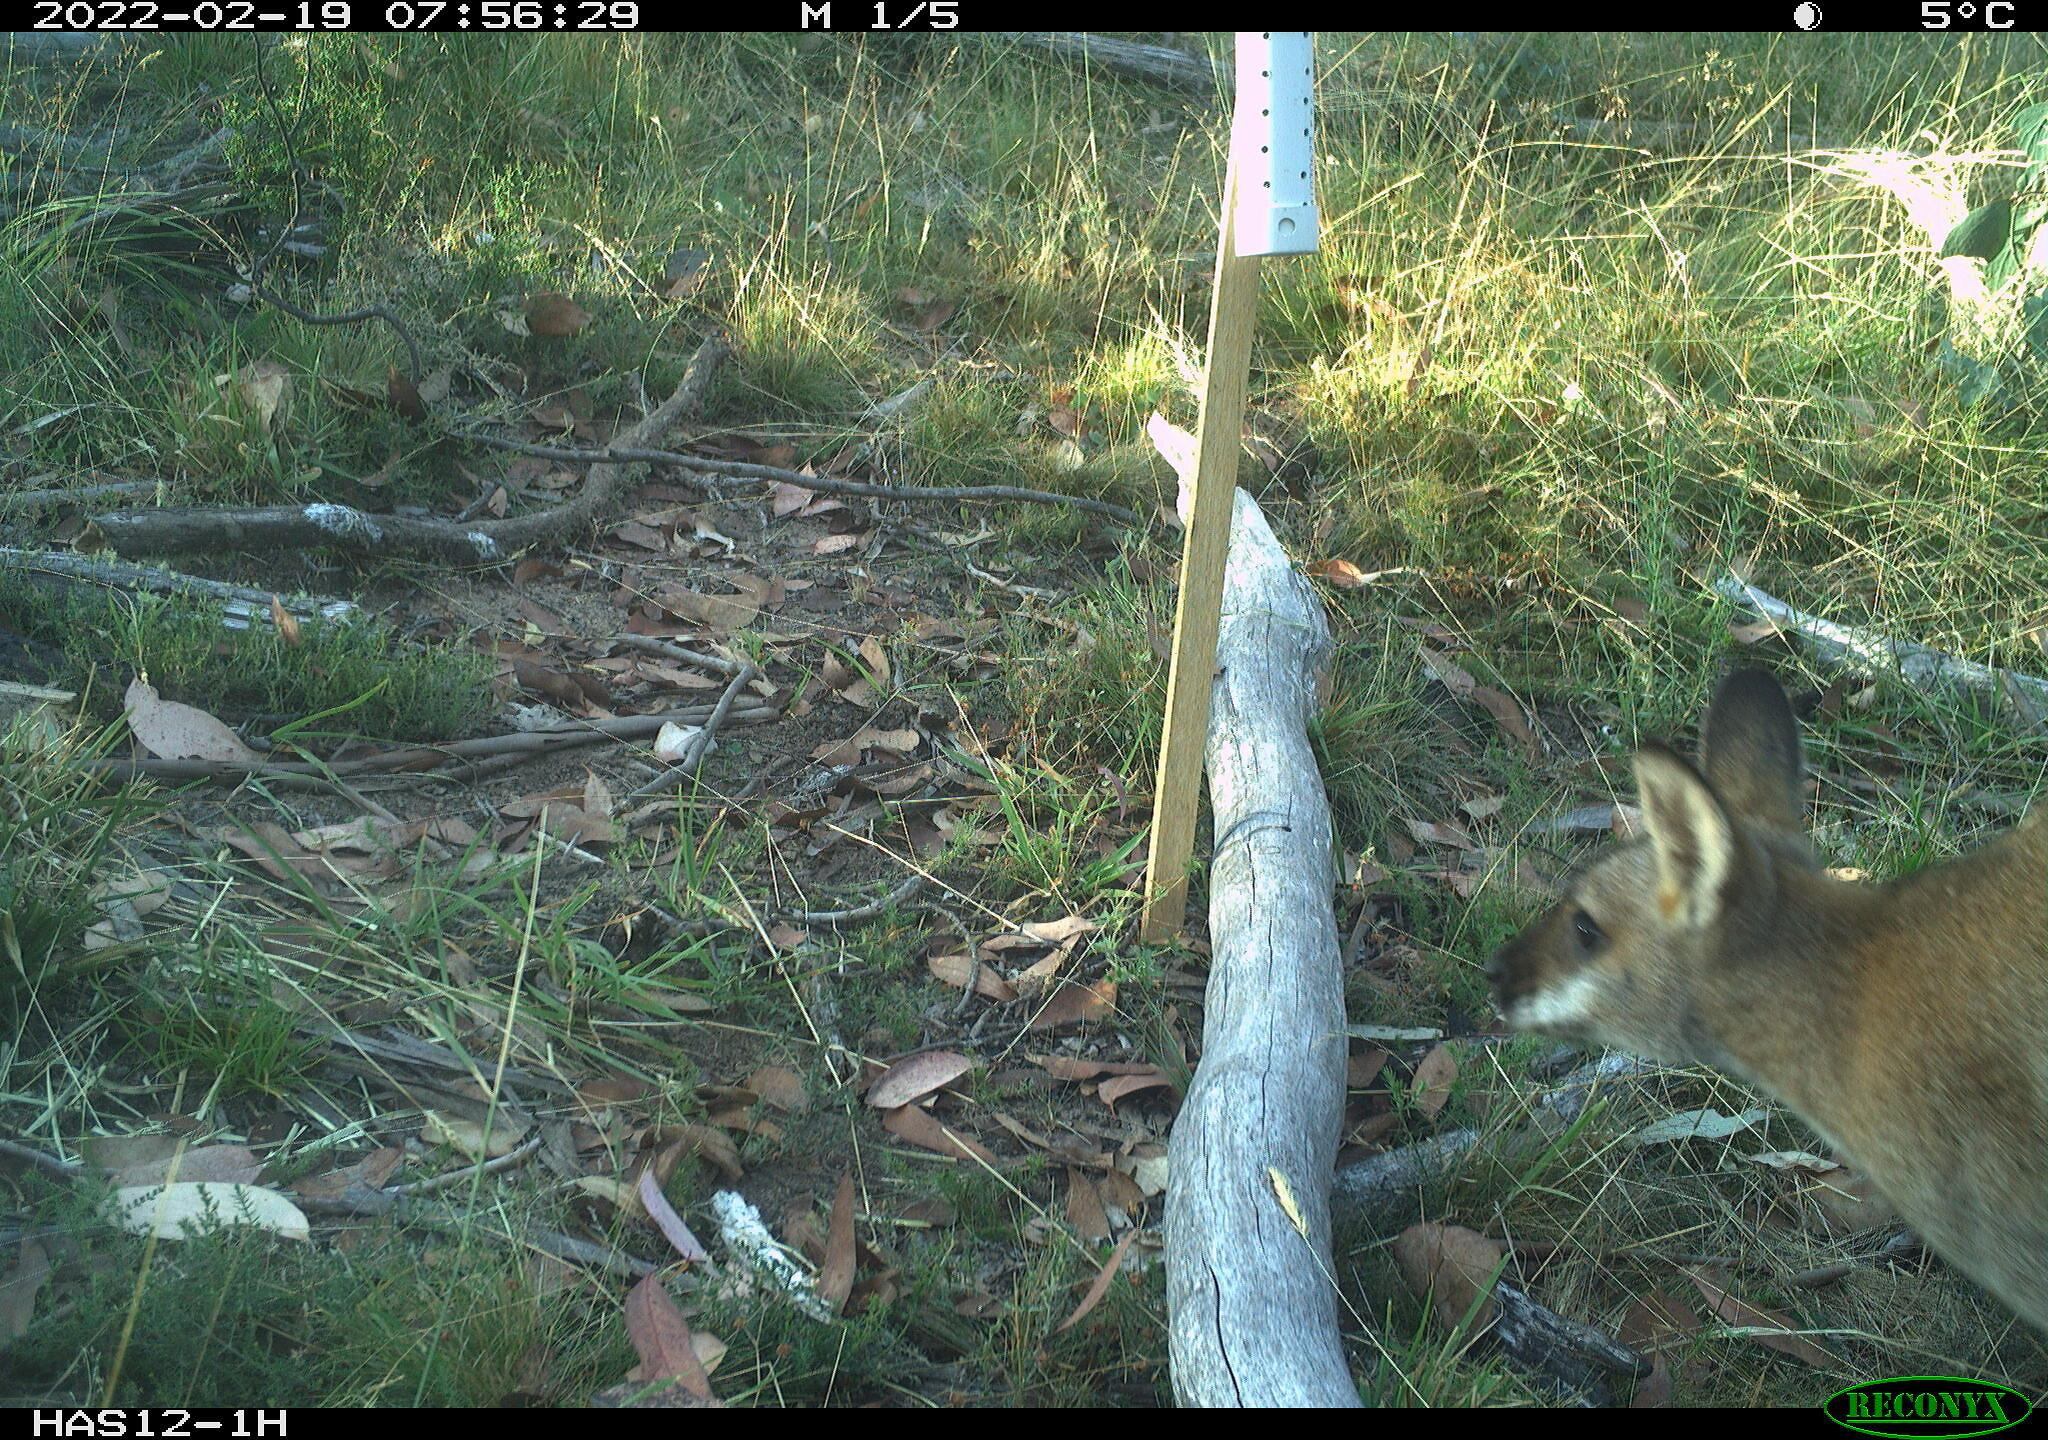Red-necked wallaby: (1492, 662, 2048, 1332)
